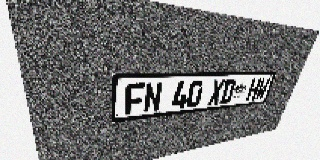0: (186, 80, 204, 108)
4: (171, 81, 190, 110)
D: (219, 79, 237, 104)
F: (125, 83, 145, 115)
H: (245, 78, 262, 101)
N: (143, 82, 163, 113)
W: (254, 78, 271, 100)
X: (207, 80, 225, 106)
